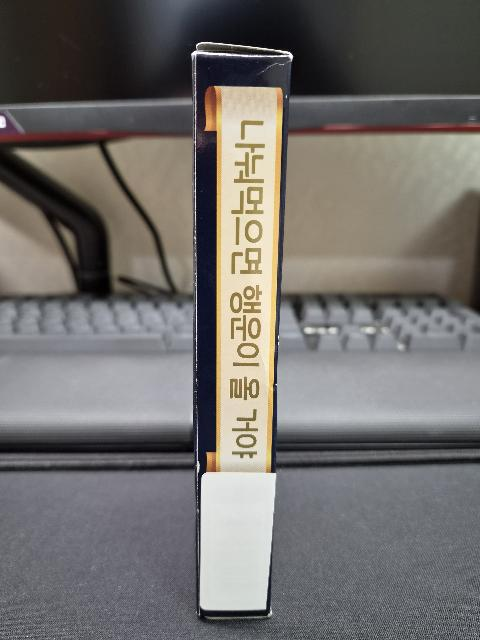pepero: (191, 42, 293, 620)
